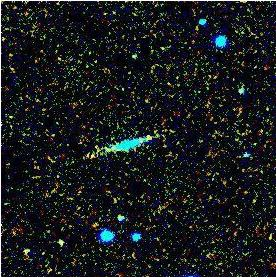star: (130, 121, 160, 151)
